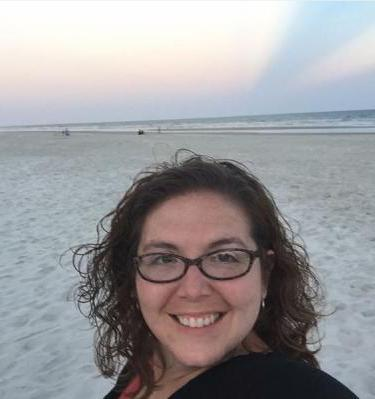face: (133, 192, 266, 369)
